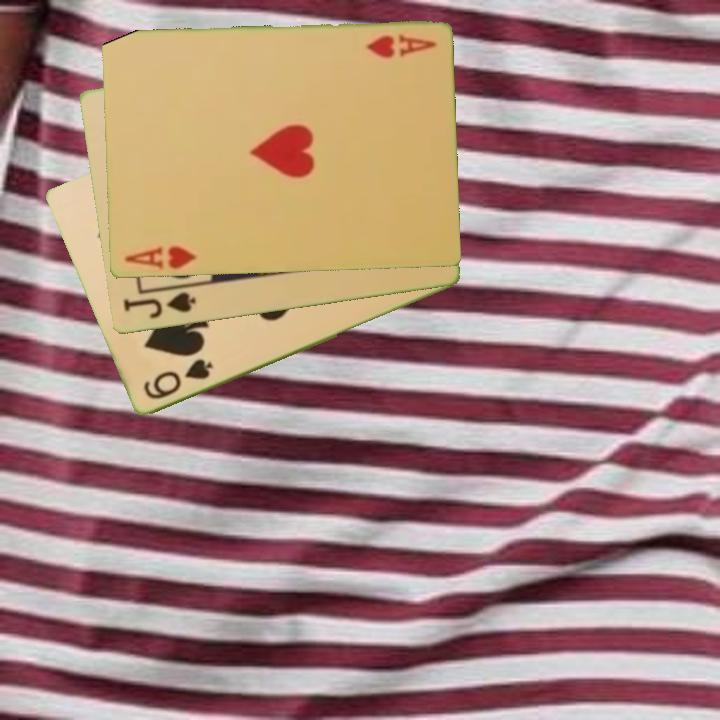6s: (139, 355, 216, 403)
Ah: (121, 243, 199, 273), (362, 31, 439, 60)
Js: (119, 289, 199, 322)
